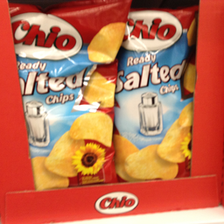chips: (4, 1, 122, 192), (113, 6, 198, 180)
